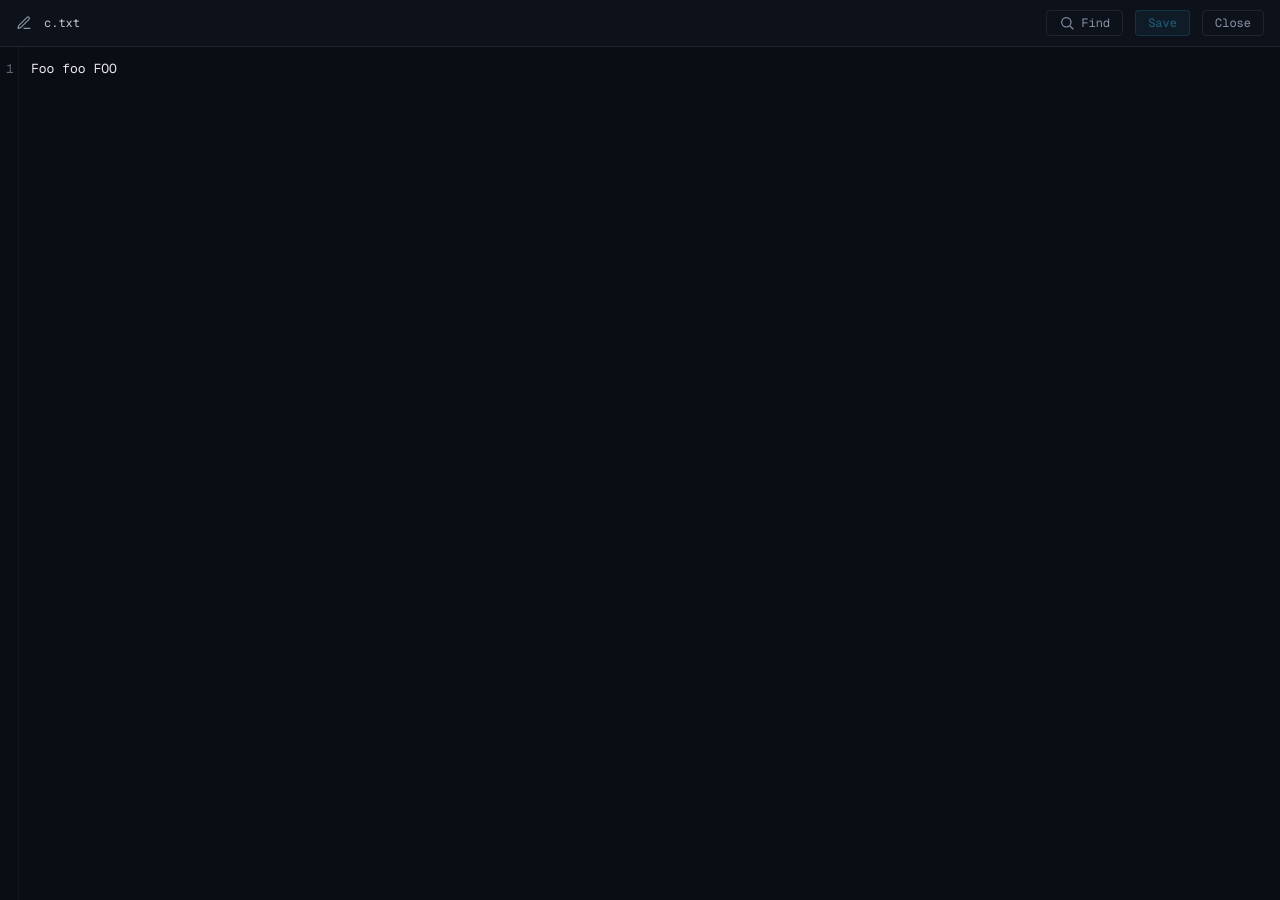
Scenario: FileEditor find / replace › honors the case-sensitivity toggle
Click the button "Find" at coordinates (1085, 23), box [1046,10,1123,36]
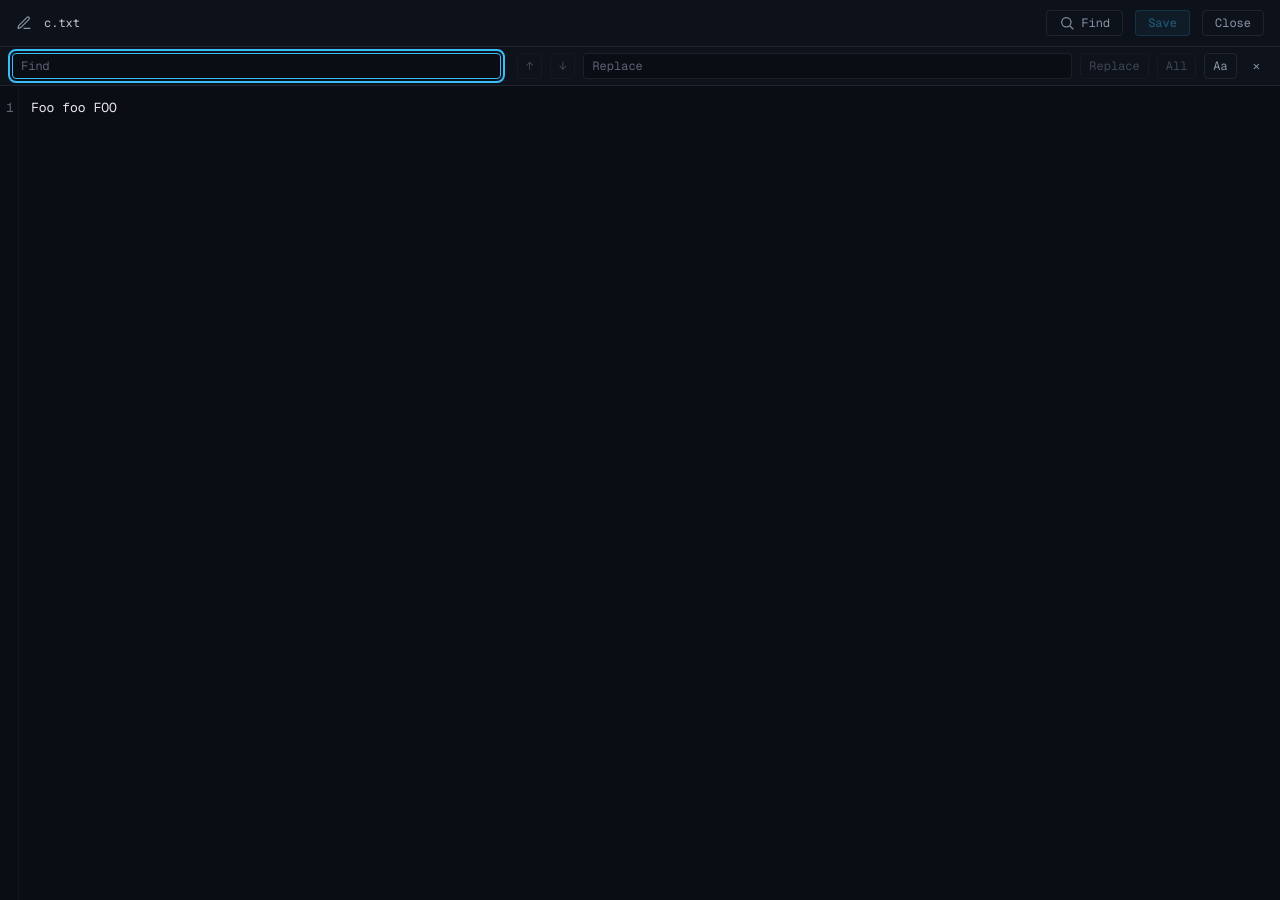
Type "foo" into the field labelled "Find" at coordinates (256, 66), box [12,53,501,79]
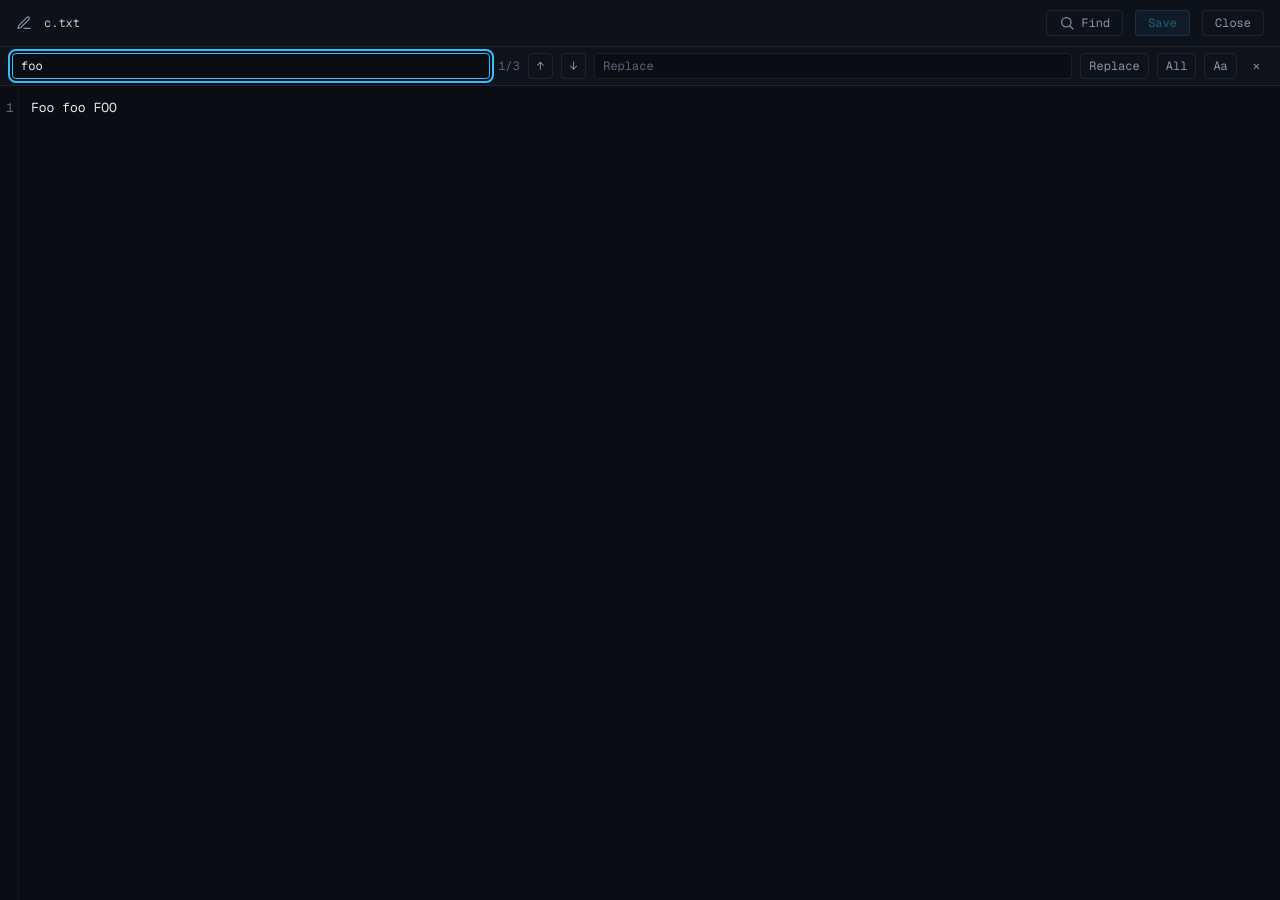
Result: the text "1/3" is shown at [498,58,520,74]
Note: Toggle "Aa" (match case) → only the exact-case "foo".
Click the button "Aa" at coordinates (1221, 66), box [1204,53,1237,79]
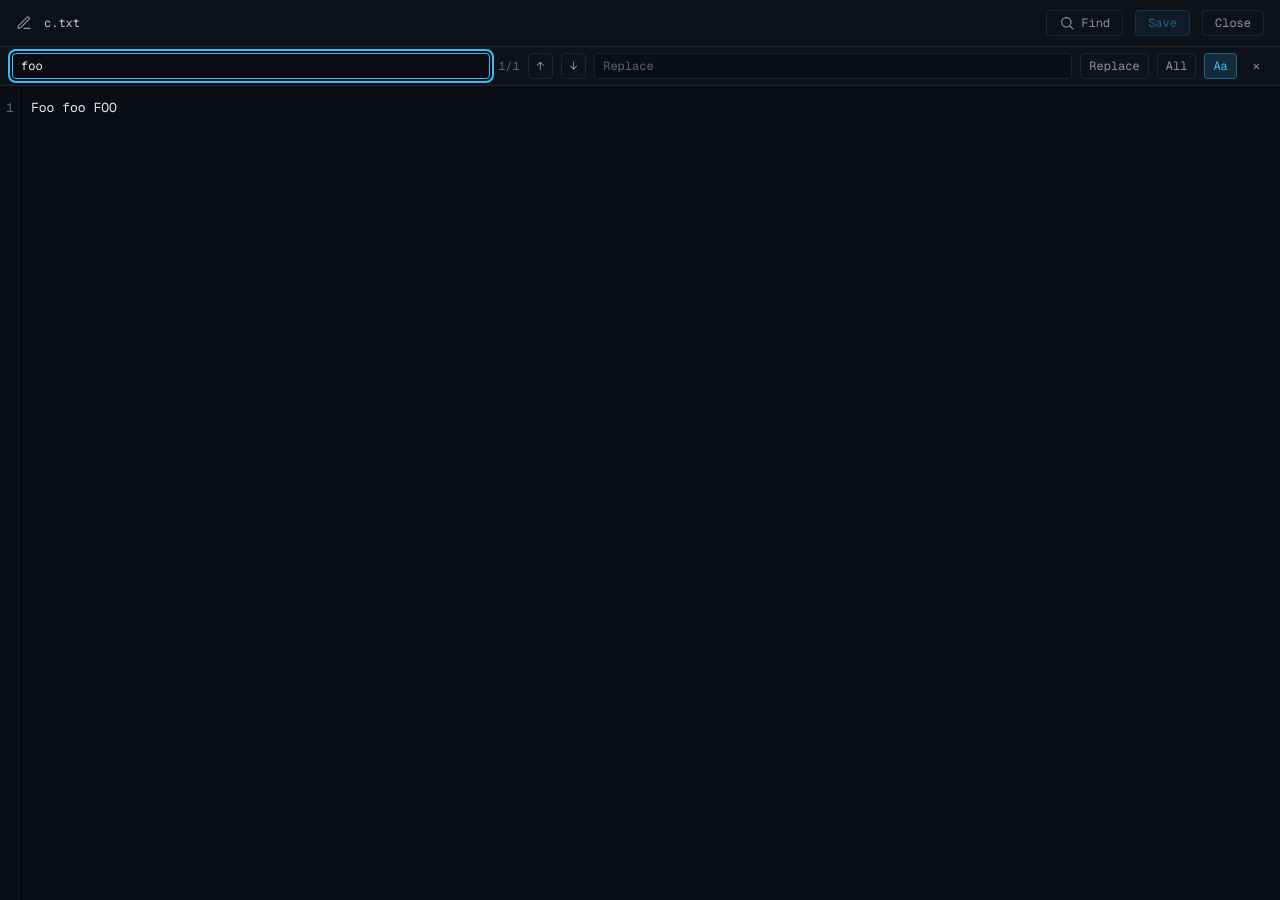
Result: the text "1/1" is shown at [498,58,520,74]
